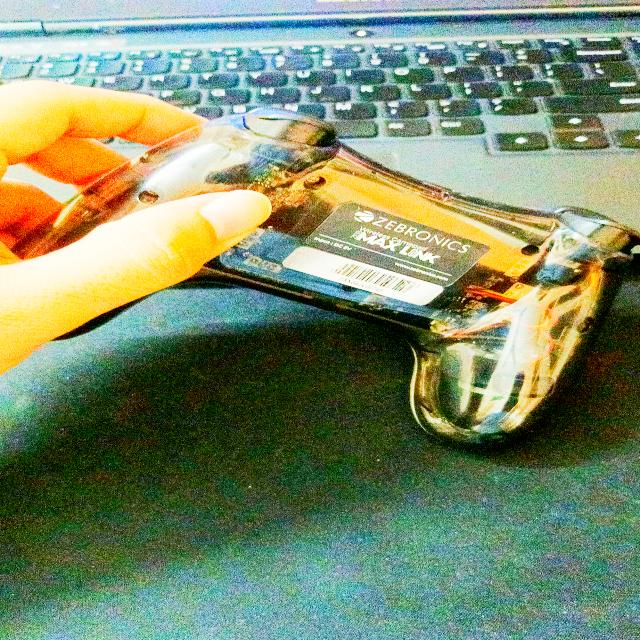gamepad: (12, 107, 640, 448)
